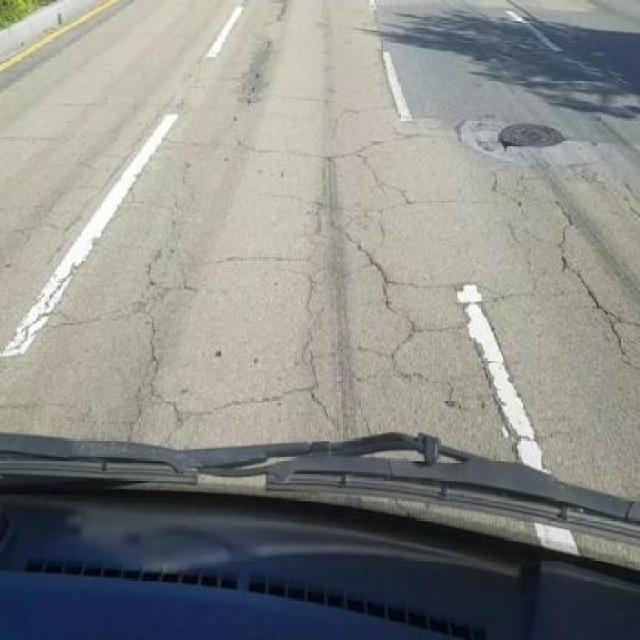Manhole: (478, 121, 566, 154)
